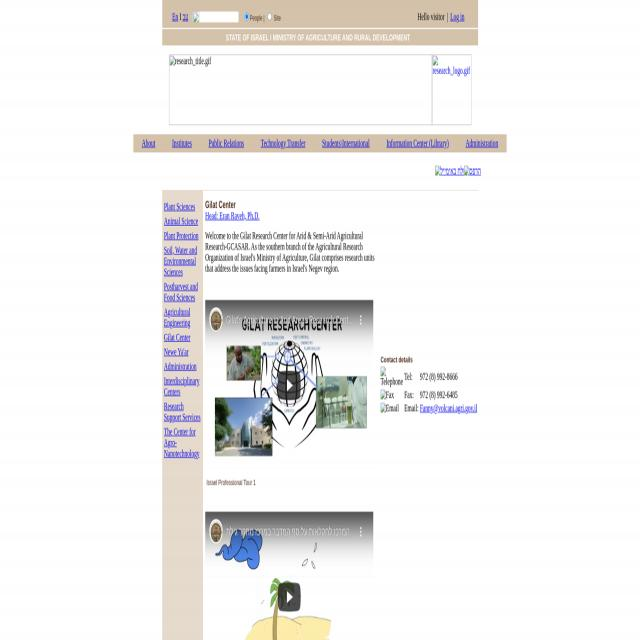button: (205, 300, 374, 456), (205, 512, 373, 640), (278, 583, 301, 612), (277, 372, 301, 399), (381, 366, 403, 387), (208, 308, 224, 332), (209, 518, 223, 544), (381, 402, 399, 413), (356, 311, 366, 329), (356, 522, 365, 542), (380, 390, 394, 400), (193, 11, 199, 22)
field: (200, 11, 238, 23), (244, 12, 249, 20), (267, 12, 272, 20)
